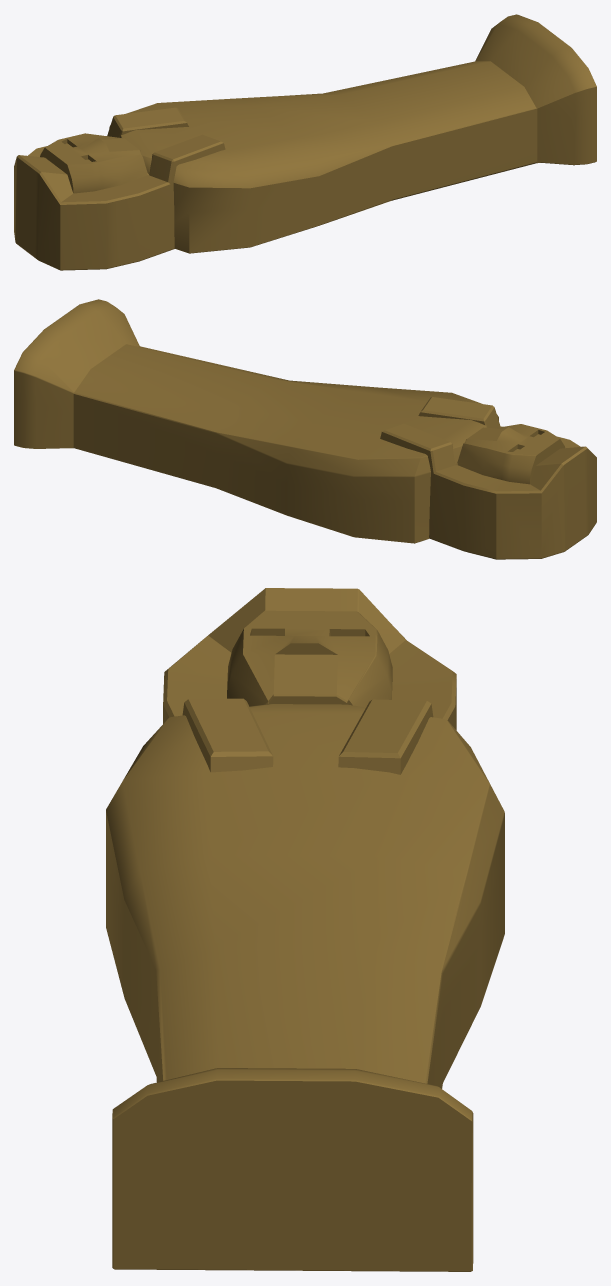
The model's file is TEMP_Sarcophagus.fbx.
3 views of the same model, one above another, from view 1: azimuth 30°, elevation 25°; view 2: azimuth 150°, elevation 25°; view 3: azimuth 270°, elevation 25° (orthographic). The views are drawn at different scales.
Visible parts, largest first — view 1: pCube23; view 2: pCube23; view 3: pCube23.
Part boxes in pixels (left/top/right/bottom): pCube23: left=14, top=14, right=596, bottom=270; pCube23: left=14, top=299, right=596, bottom=559; pCube23: left=106, top=588, right=504, bottom=1271.
Size of the model in its own units: 14.78 by 2.62 by 4.88.
